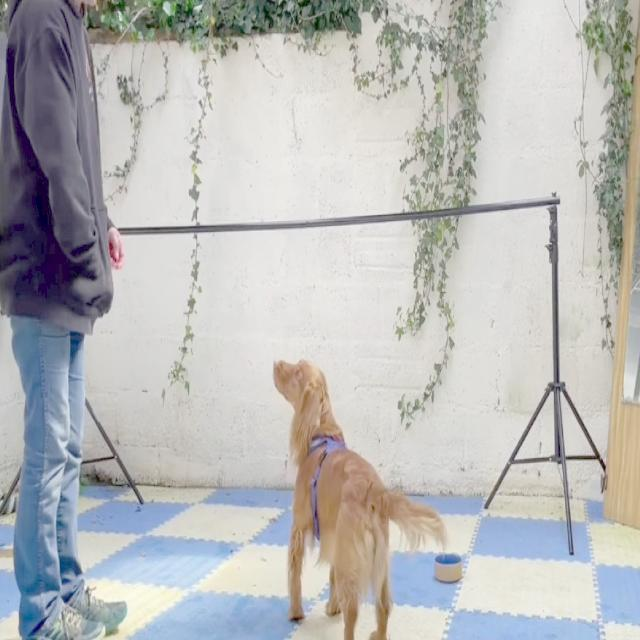Unleashed_Dog: (25, 359, 453, 640)
